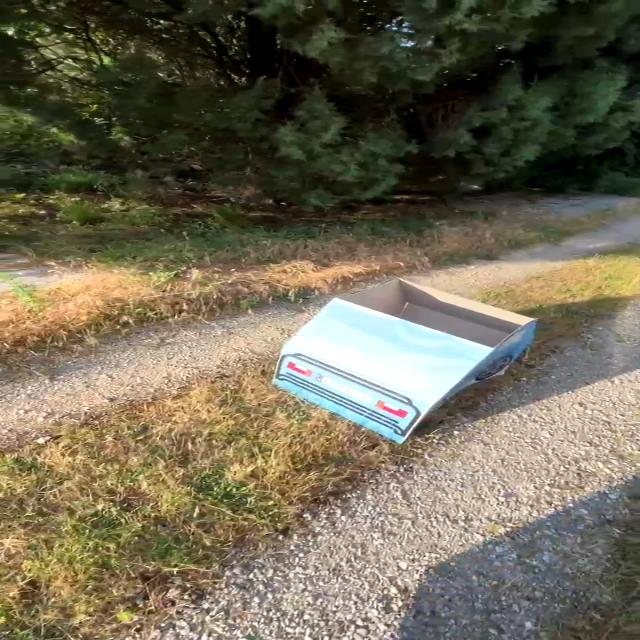blue_car: (249, 262, 576, 462)
